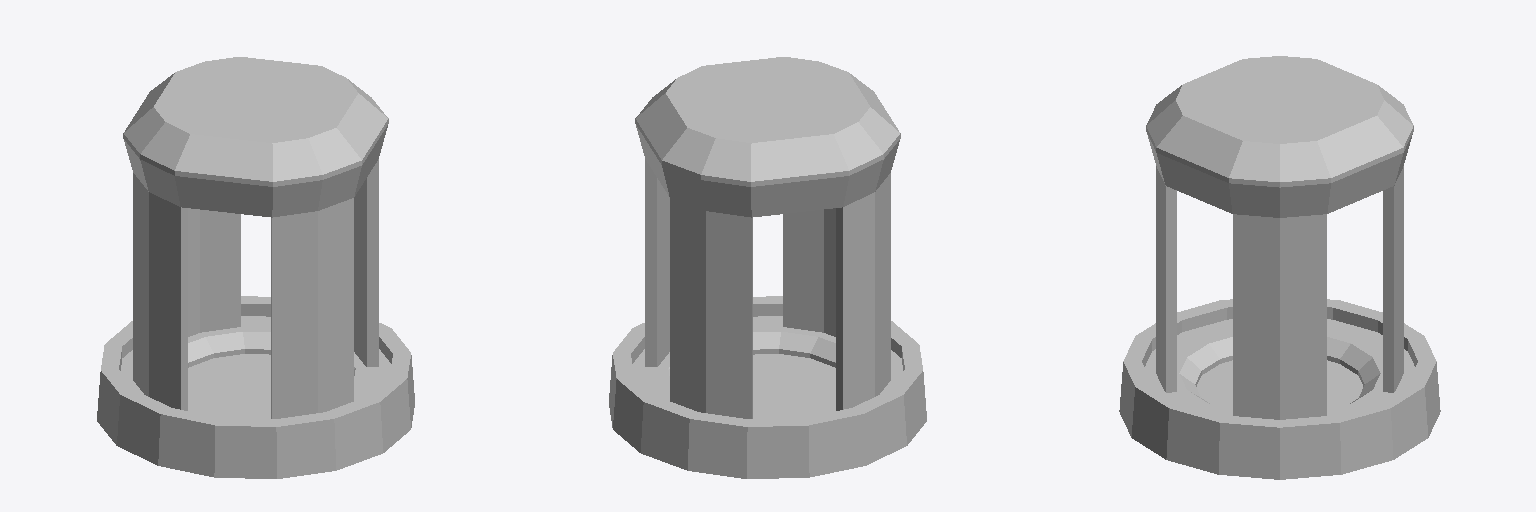
The model's file is Tank_empty.obj.
The picture shows the model from 3 angles: view 1: azimuth 30°, elevation 25°; view 2: azimuth 150°, elevation 25°; view 3: azimuth 270°, elevation 25°; orthographic projection.
Visible parts, largest first — view 1: Circle; view 2: Circle; view 3: Circle.
Part boxes in pixels (x1,y1,x2,y2): Circle: (97, 57, 414, 478); Circle: (609, 57, 926, 478); Circle: (1119, 56, 1440, 479).
Bounding box in the file's own units: 1.06 × 1.13 × 1.06.